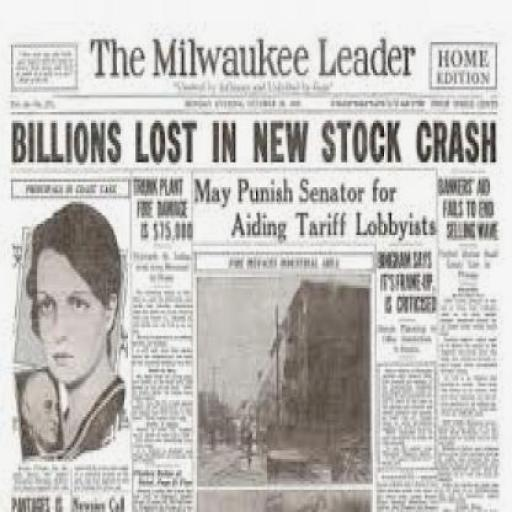paper: (0, 0, 511, 510)
